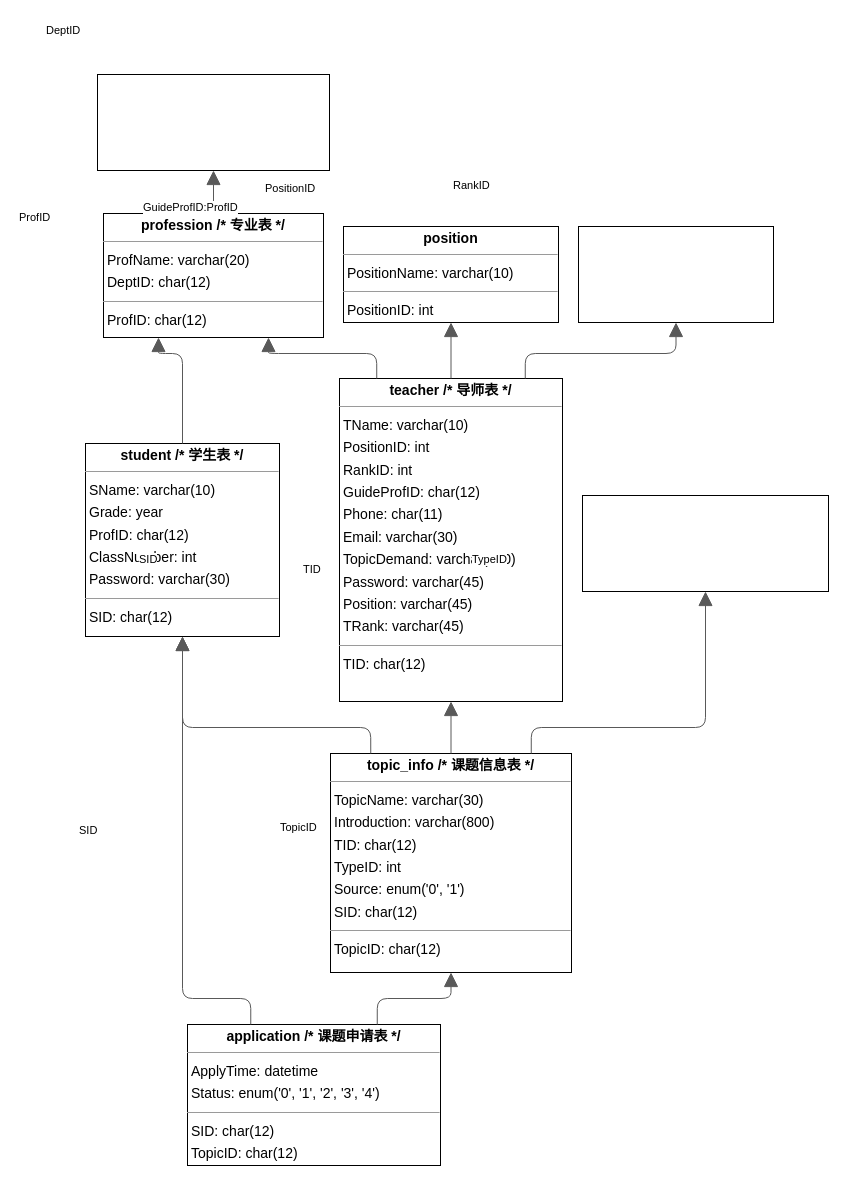
This 846x1183 diagram has some shape labels left out. The shapes that lost their labels are listed below. From the top down, each one's box as (x1, y1, x2, y2) in pixels, then its label:
(96, 74, 330, 170): department /* 院系表 */ DeptName: varchar(20) DeptID: char(12)
(578, 226, 774, 322): rank RankName: varchar(10) RankID: int
(582, 494, 828, 592): topic_type /* 课题类型表 */ TypeName: varchar(20) TypeID: int
